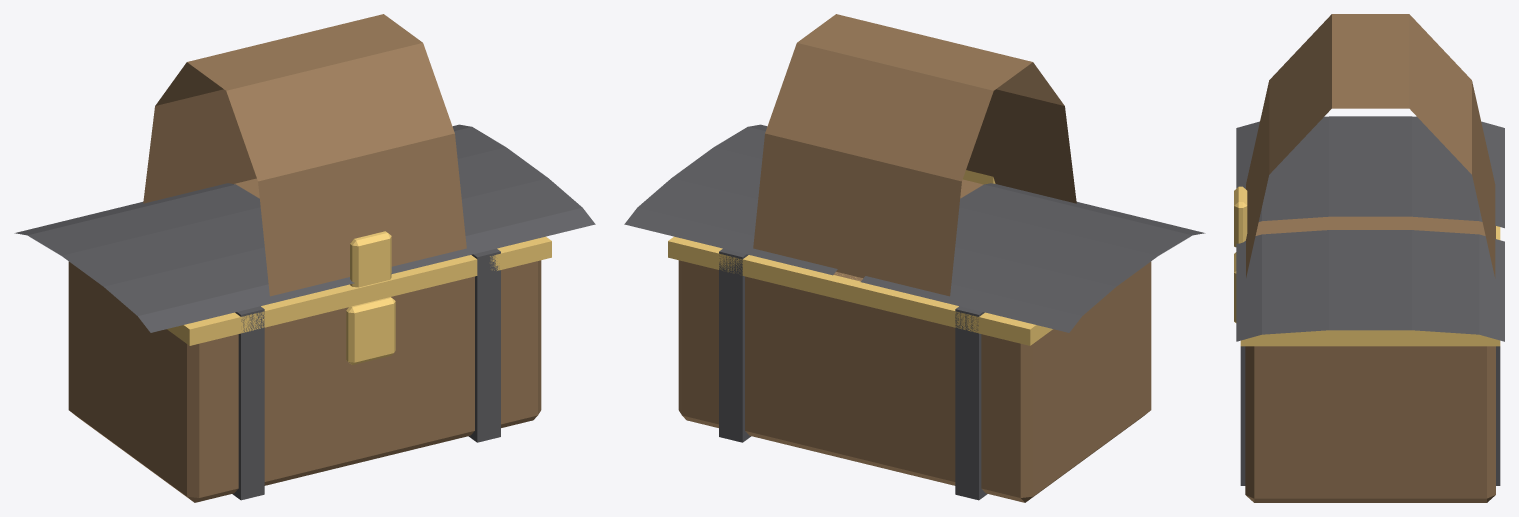
File: chest.glb
The picture shows the model from 3 angles, left to right: view 1: azimuth 30°, elevation 25°; view 2: azimuth 150°, elevation 25°; view 3: azimuth 270°, elevation 25°; orthographic projection.
Parts seen in each view (by area): view 1: lid, chest_base; view 2: lid, chest_base; view 3: lid, chest_base.
Boxes of the visible parts, x1,y1,x2,y2 form: lid: (14, 14, 595, 332); chest_base: (68, 236, 551, 502); lid: (624, 14, 1205, 332); chest_base: (668, 236, 1151, 502); lid: (1234, 14, 1504, 341); chest_base: (1234, 226, 1500, 502).
Size of the model in its own units: 1.13 by 0.893 by 0.605.
